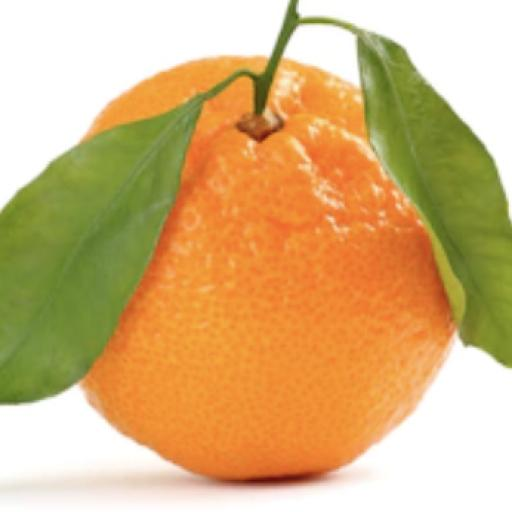orange: (83, 60, 454, 479)
